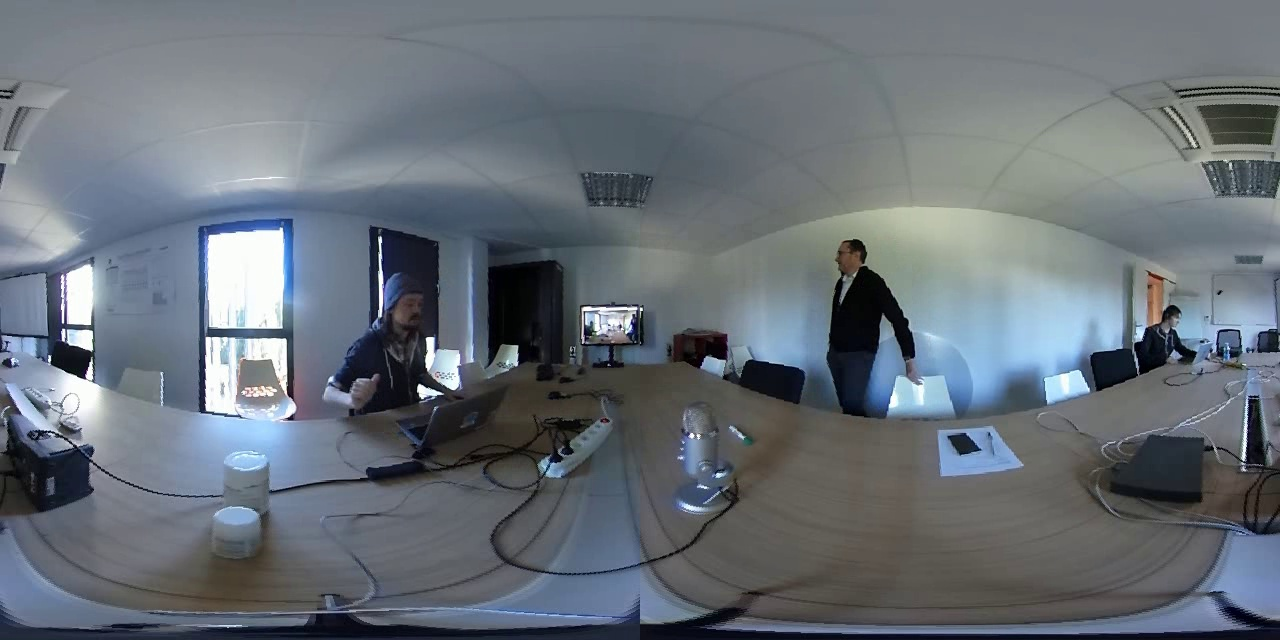person: (332, 265, 458, 391), (819, 231, 908, 404), (1146, 291, 1194, 377)
